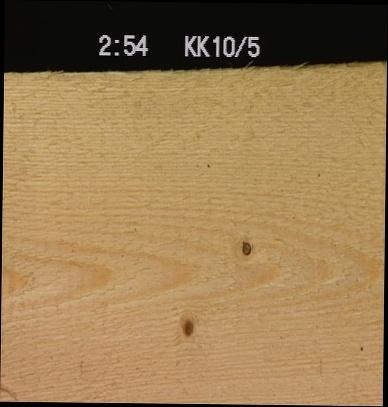dry_knot: (180, 316, 194, 337), (240, 239, 252, 256)
